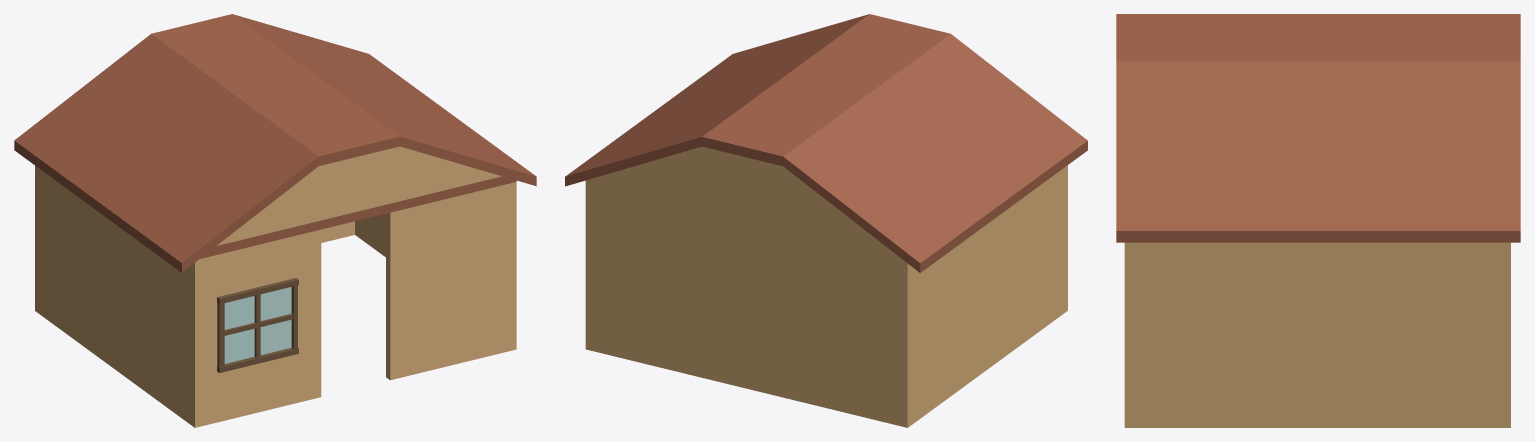
The model's file is House_02.fbx.
3 views of the same model, side by side, from view 1: azimuth 30°, elevation 25°; view 2: azimuth 150°, elevation 25°; view 3: azimuth 270°, elevation 25° (orthographic). The views are drawn at different scales.
Visible parts, largest first — view 1: House; view 2: House; view 3: House.
Part boxes in pixels (x1,y1,x2,y2): House: (14, 14, 536, 427); House: (565, 14, 1087, 427); House: (1116, 14, 1520, 427).
Size of the model in its own units: 421 by 277 by 344.
